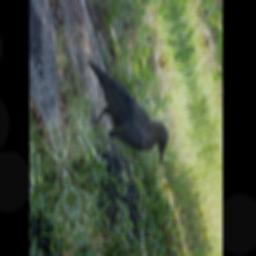Crow: (75, 25, 175, 189)
